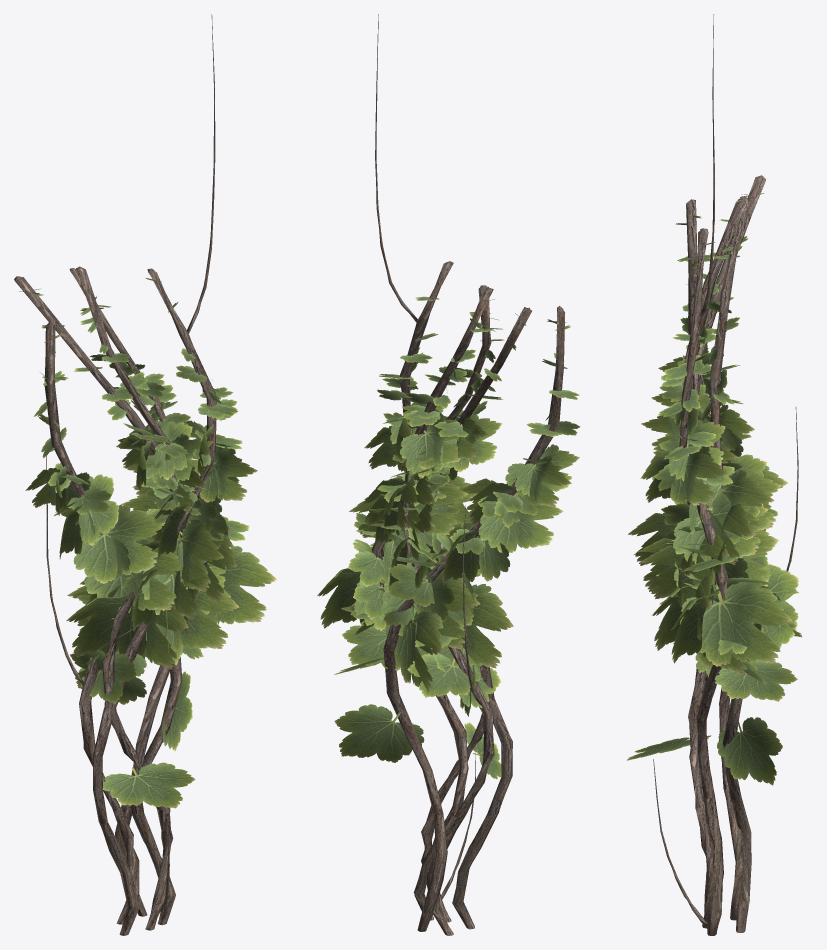
The model's file is Climbing10.fbx.
The picture shows the model from 3 angles, left to right: view 1: azimuth 30°, elevation 25°; view 2: azimuth 150°, elevation 25°; view 3: azimuth 270°, elevation 25°; orthographic projection. The views are drawn at different scales.
Visible parts, largest first — view 1: climbing10; view 2: climbing10; view 3: climbing10.
Boxes of the visible parts, x1=… form: climbing10: x1=14, y1=14, x2=276, y2=935; climbing10: x1=317, y1=14, x2=580, y2=935; climbing10: x1=626, y1=14, x2=801, y2=935.
Size of the model in its own units: 399 by 1355 by 259.
